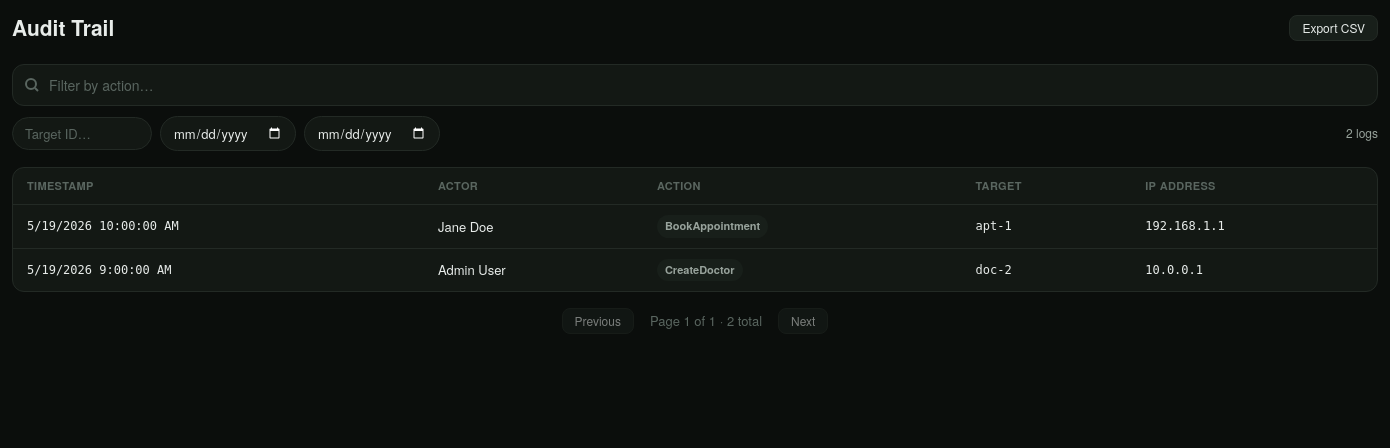
Test: AuditLogPage › expands row to show metadata on click
Click the text "BookAppointment".
click(713, 226)  # box [657,215,768,238]
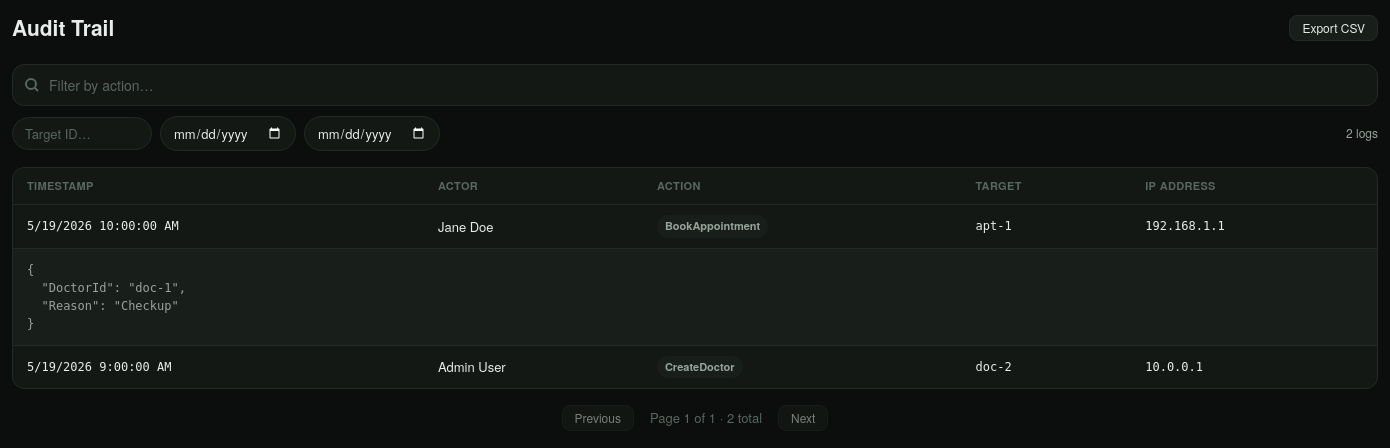
Result: the text "{ \"DoctorId\": \"doc-1\", \"Reason\": \"Checkup\" }" is shown at [27,262,186,330]
